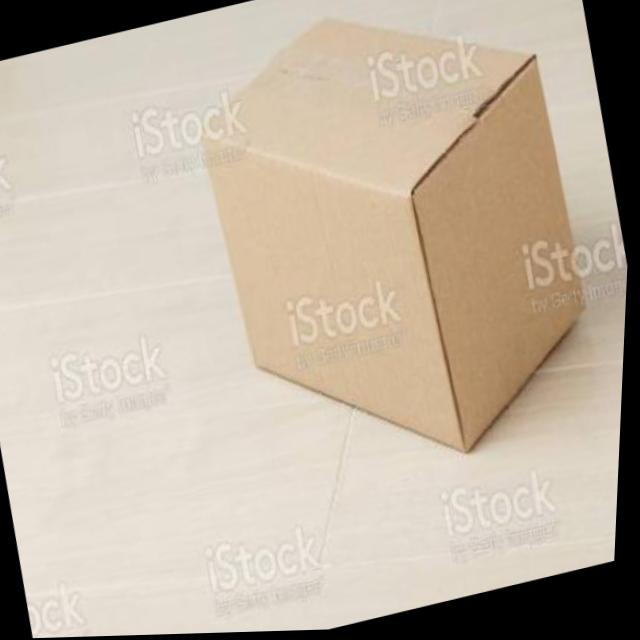box: (162, 0, 640, 560)
